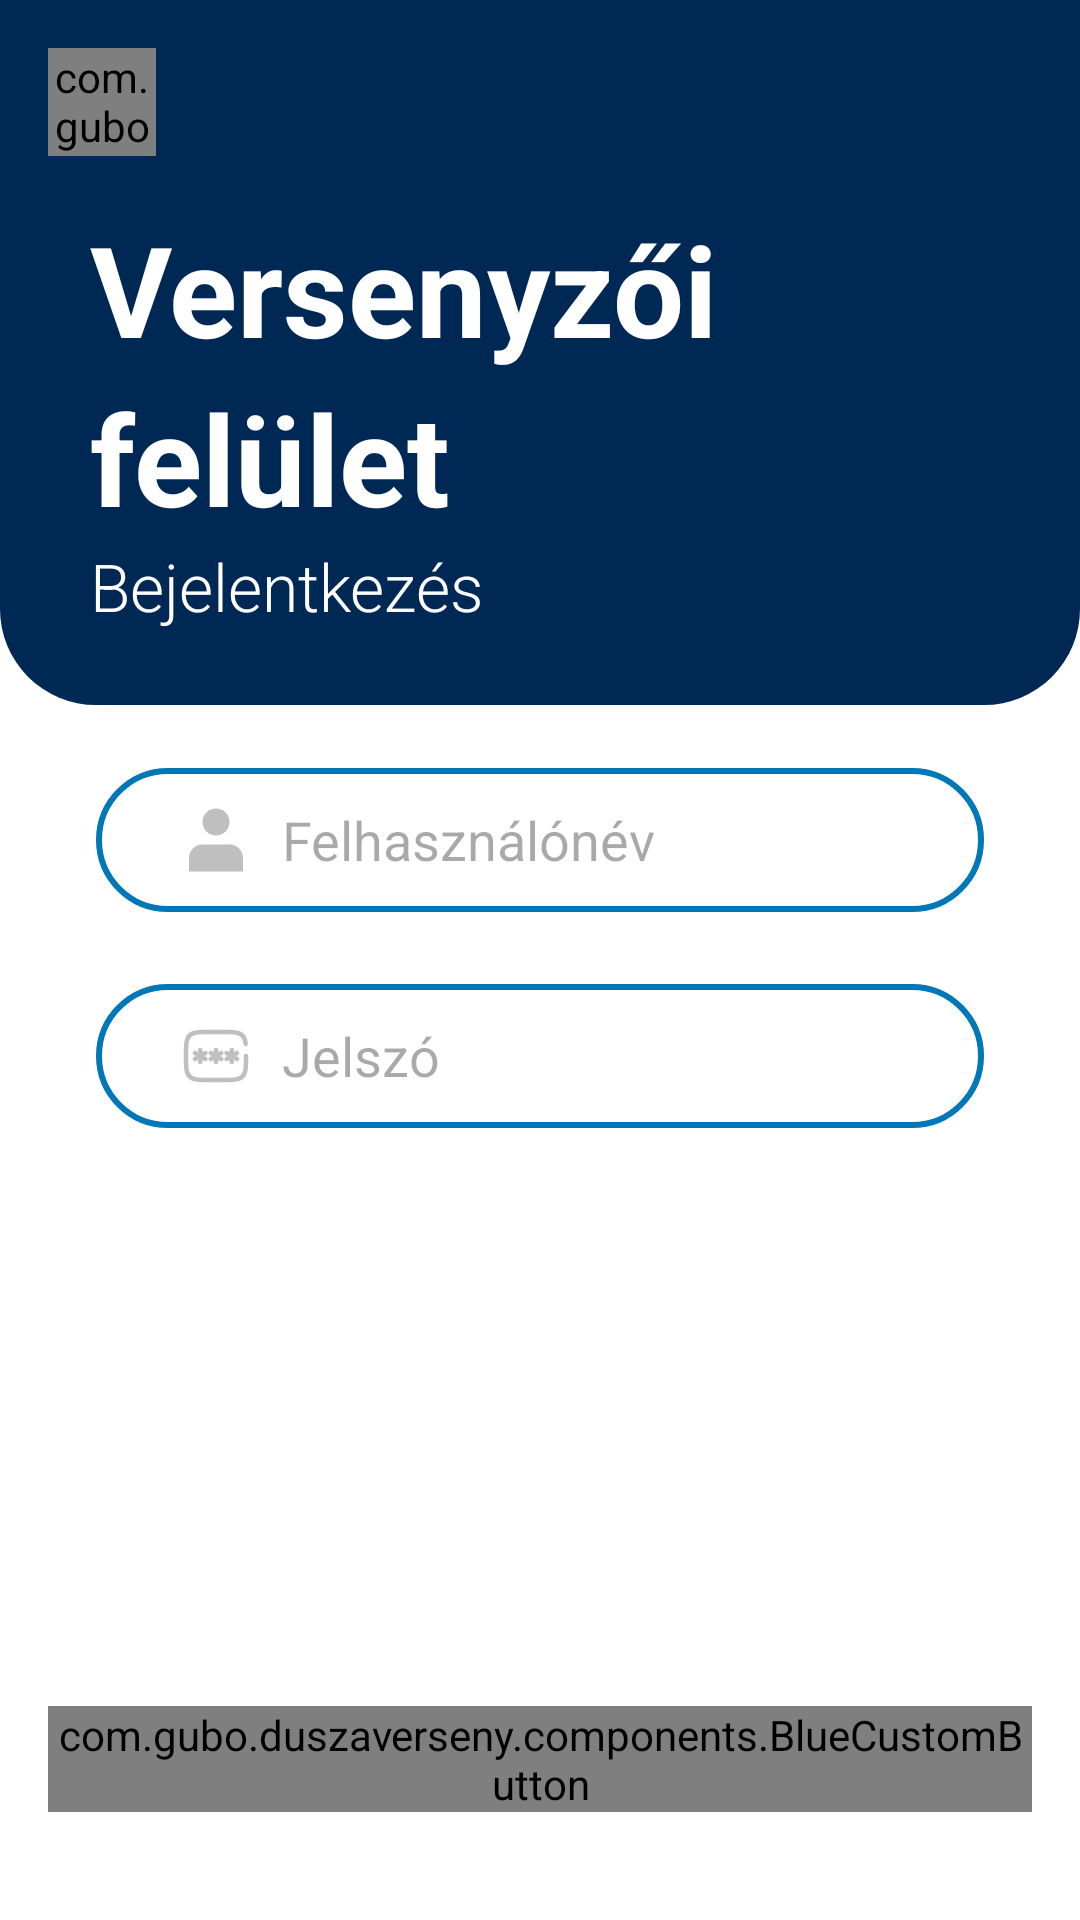

Icon bounding boxes for this 1080 × 1920 phone screenshot, format (x1,y1,x2,y2):
password: (184,1030,248,1082)
user: (189,808,243,872)
